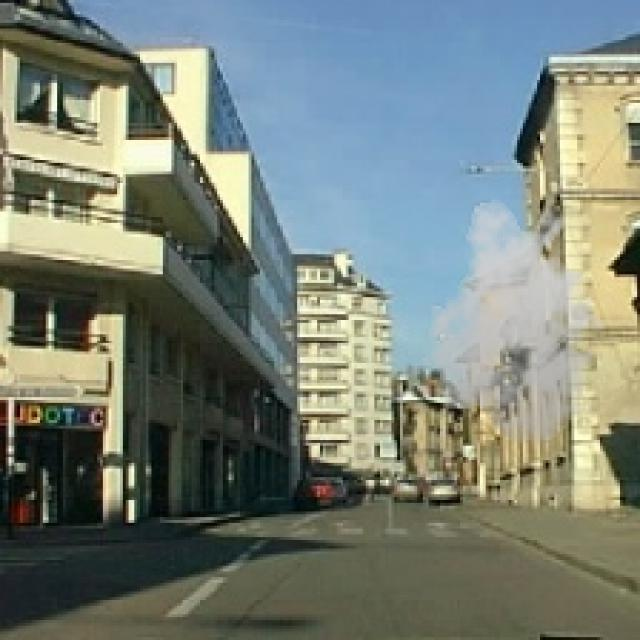Smoke: (417, 197, 617, 446)
